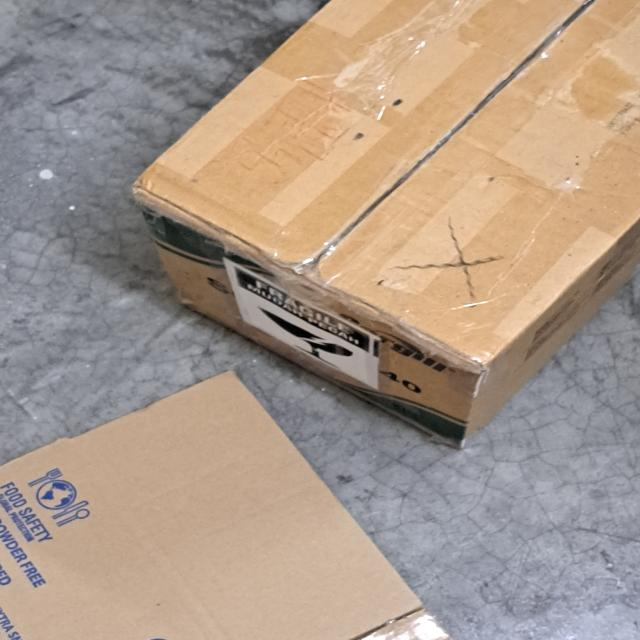cardboard: (127, 0, 640, 450), (0, 370, 454, 640)
